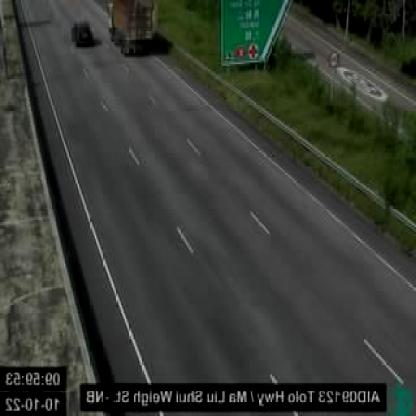Car: (74, 21, 92, 44)
Truck: (110, 1, 155, 53)
